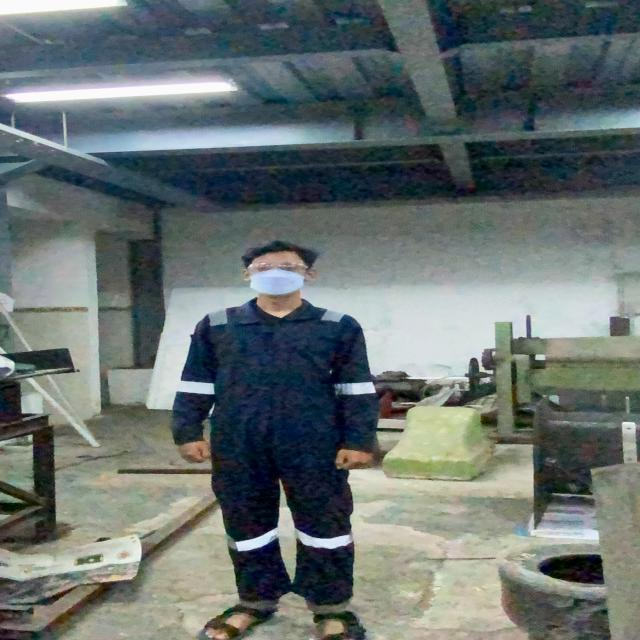face_mask: (246, 256, 313, 297)
glasses: (245, 260, 316, 276)
hand_noglove: (330, 442, 380, 473), (168, 438, 222, 464)
head_nohelmet: (243, 235, 315, 264)
person: (165, 234, 398, 640)
